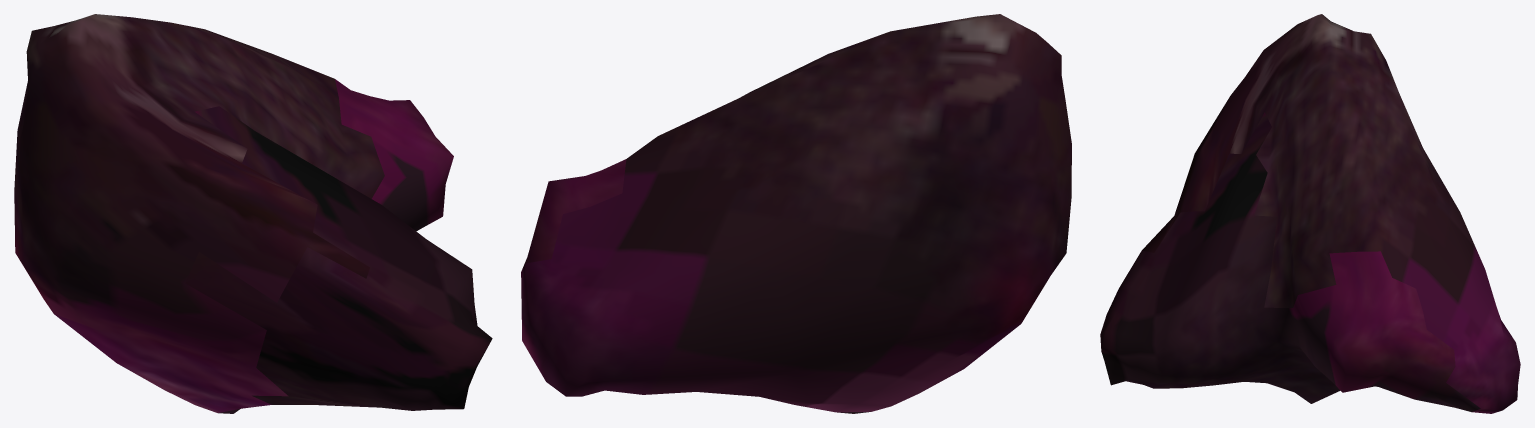
Rendered from terrain-abyss-chancel-object-047.obj.
3 views of the same model, side by side, from view 1: azimuth 30°, elevation 25°; view 2: azimuth 150°, elevation 25°; view 3: azimuth 270°, elevation 25° (orthographic). The views are drawn at different scales.
Visible parts, largest first — view 1: terrain-abyss-chancel-object-047; view 2: terrain-abyss-chancel-object-047; view 3: terrain-abyss-chancel-object-047.
Boxes of the visible parts, x1,y1,x2,y2 form: terrain-abyss-chancel-object-047: [14, 14, 492, 413]; terrain-abyss-chancel-object-047: [521, 14, 1071, 413]; terrain-abyss-chancel-object-047: [1100, 14, 1520, 413].
Size of the model in its own units: 0.1294 by 0.1199 by 0.137.
